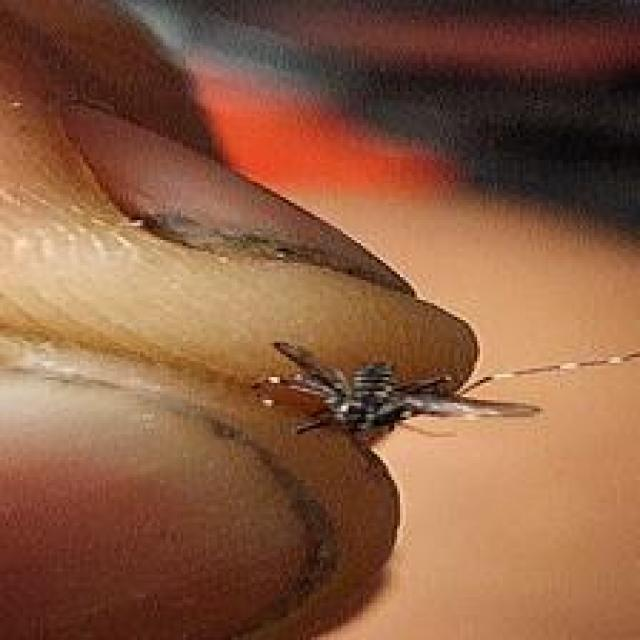Aedes albopictus: (250, 339, 541, 450)
